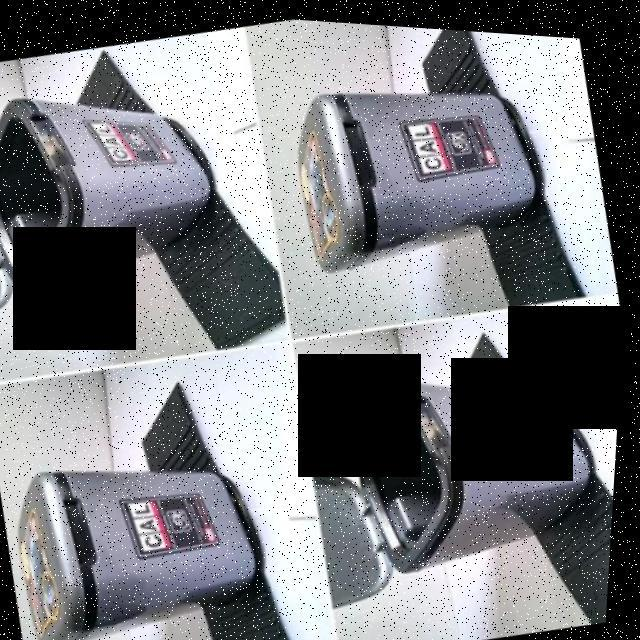bin: (293, 299, 627, 634), (252, 14, 590, 319), (0, 18, 258, 369), (0, 382, 297, 640)
